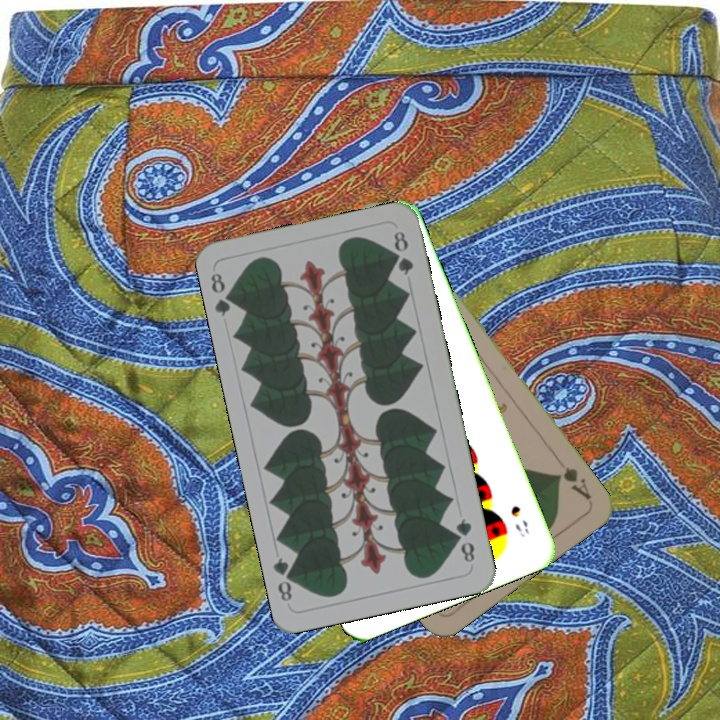G8: (206, 269, 239, 319), (451, 514, 478, 565)
GA: (552, 463, 594, 503)
S8: (506, 501, 531, 540)
